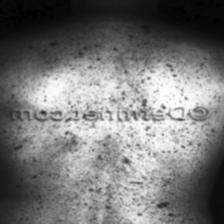Non-Cancerous Skin Condition: (1, 127, 204, 224), (0, 38, 214, 102)
